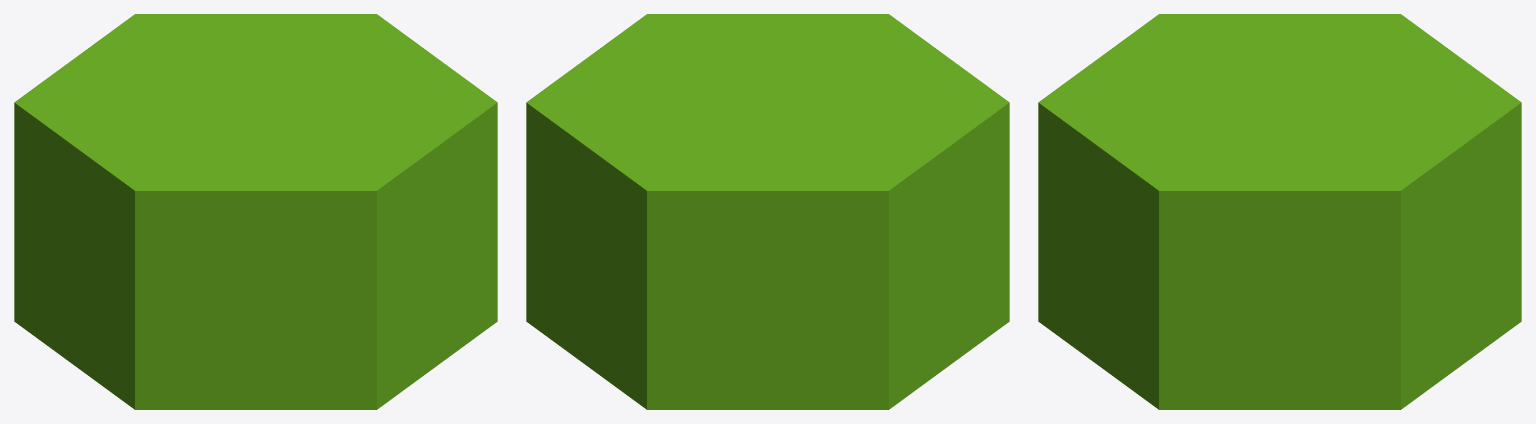
Rendered from Tile_Grass_01_Inland.gltf.
The picture shows the model from 3 angles, left to right: view 1: azimuth 30°, elevation 25°; view 2: azimuth 150°, elevation 25°; view 3: azimuth 270°, elevation 25°; orthographic projection.
Visible parts, largest first — view 1: Tile_Grass_01_Inland; view 2: Tile_Grass_01_Inland; view 3: Tile_Grass_01_Inland.
Boxes of the visible parts, x1,y1,x2,y2 form: Tile_Grass_01_Inland: (14, 14, 497, 409); Tile_Grass_01_Inland: (526, 14, 1009, 409); Tile_Grass_01_Inland: (1038, 14, 1521, 409).
Bounding box in the file's own units: 1.73 × 1 × 2.
Materials: 1 (1 with a texture image).
